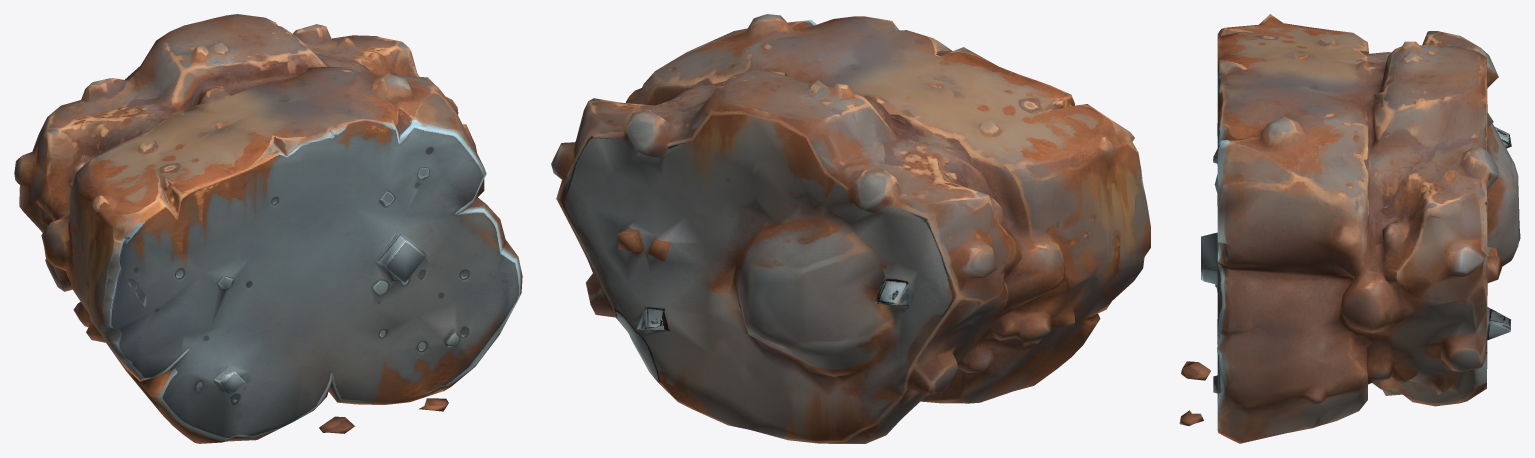
The picture shows the model from 3 angles, left to right: view 1: azimuth 30°, elevation 25°; view 2: azimuth 150°, elevation 25°; view 3: azimuth 270°, elevation 25°; orthographic projection. The views are drawn at different scales.
Size of the model in its own units: 2 by 1.35 by 1.3.
1 material, 1 textured.
